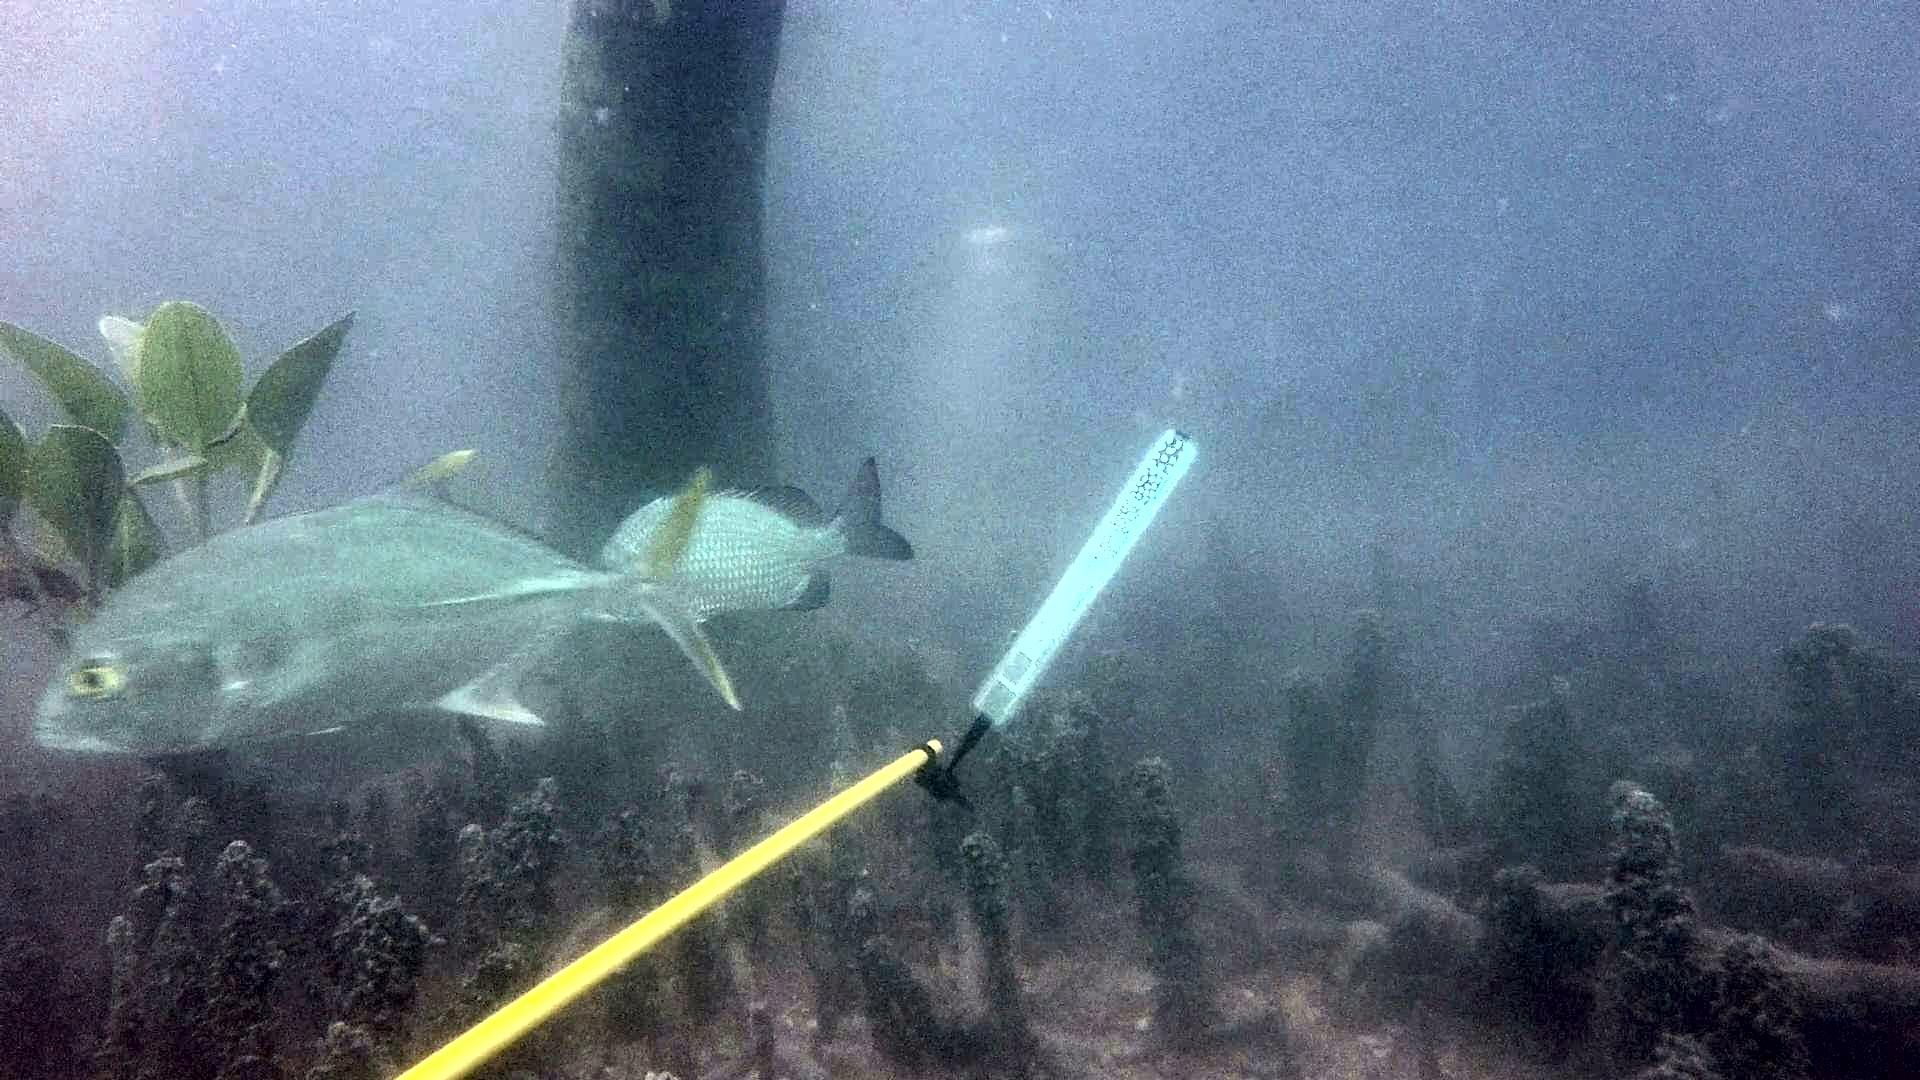acanthopagrus palmaris: (596, 448, 931, 642)
caranx: (22, 435, 749, 750)
